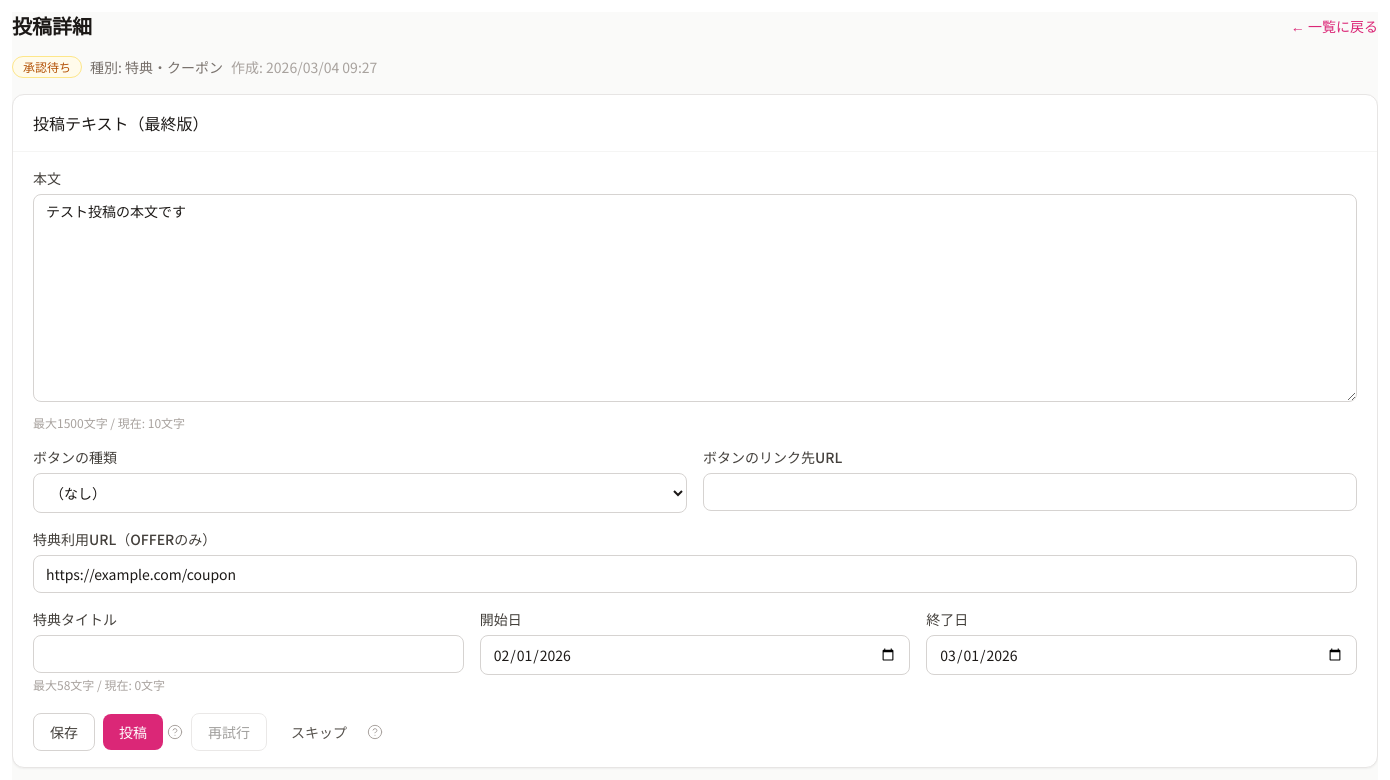
Scenario: PostDetailPage › OFFER post type › shows validation error when event_title is empty on save
Click the button "保存" at (64, 732), box [33,713,95,751]
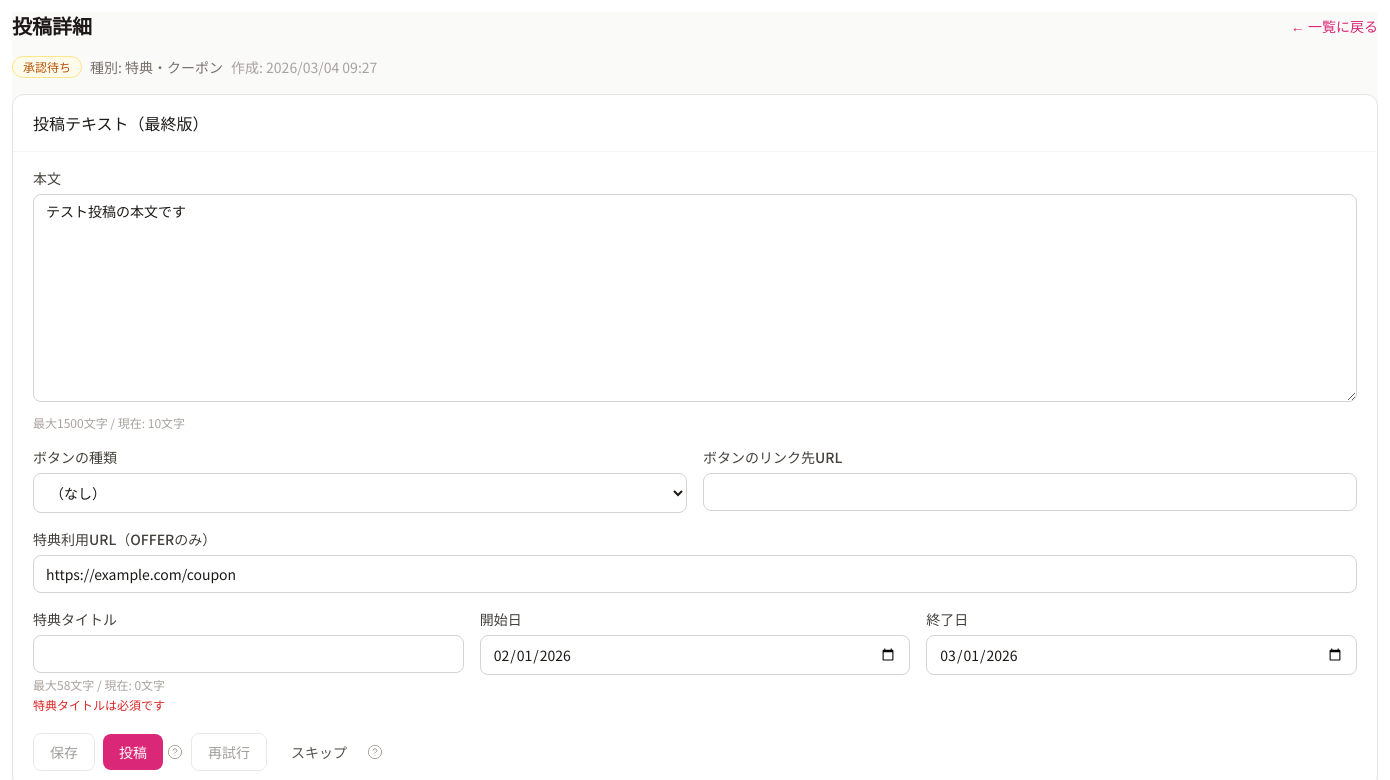
Result: the text "特典タイトルは必須です" is shown at [33,696,165,713]
